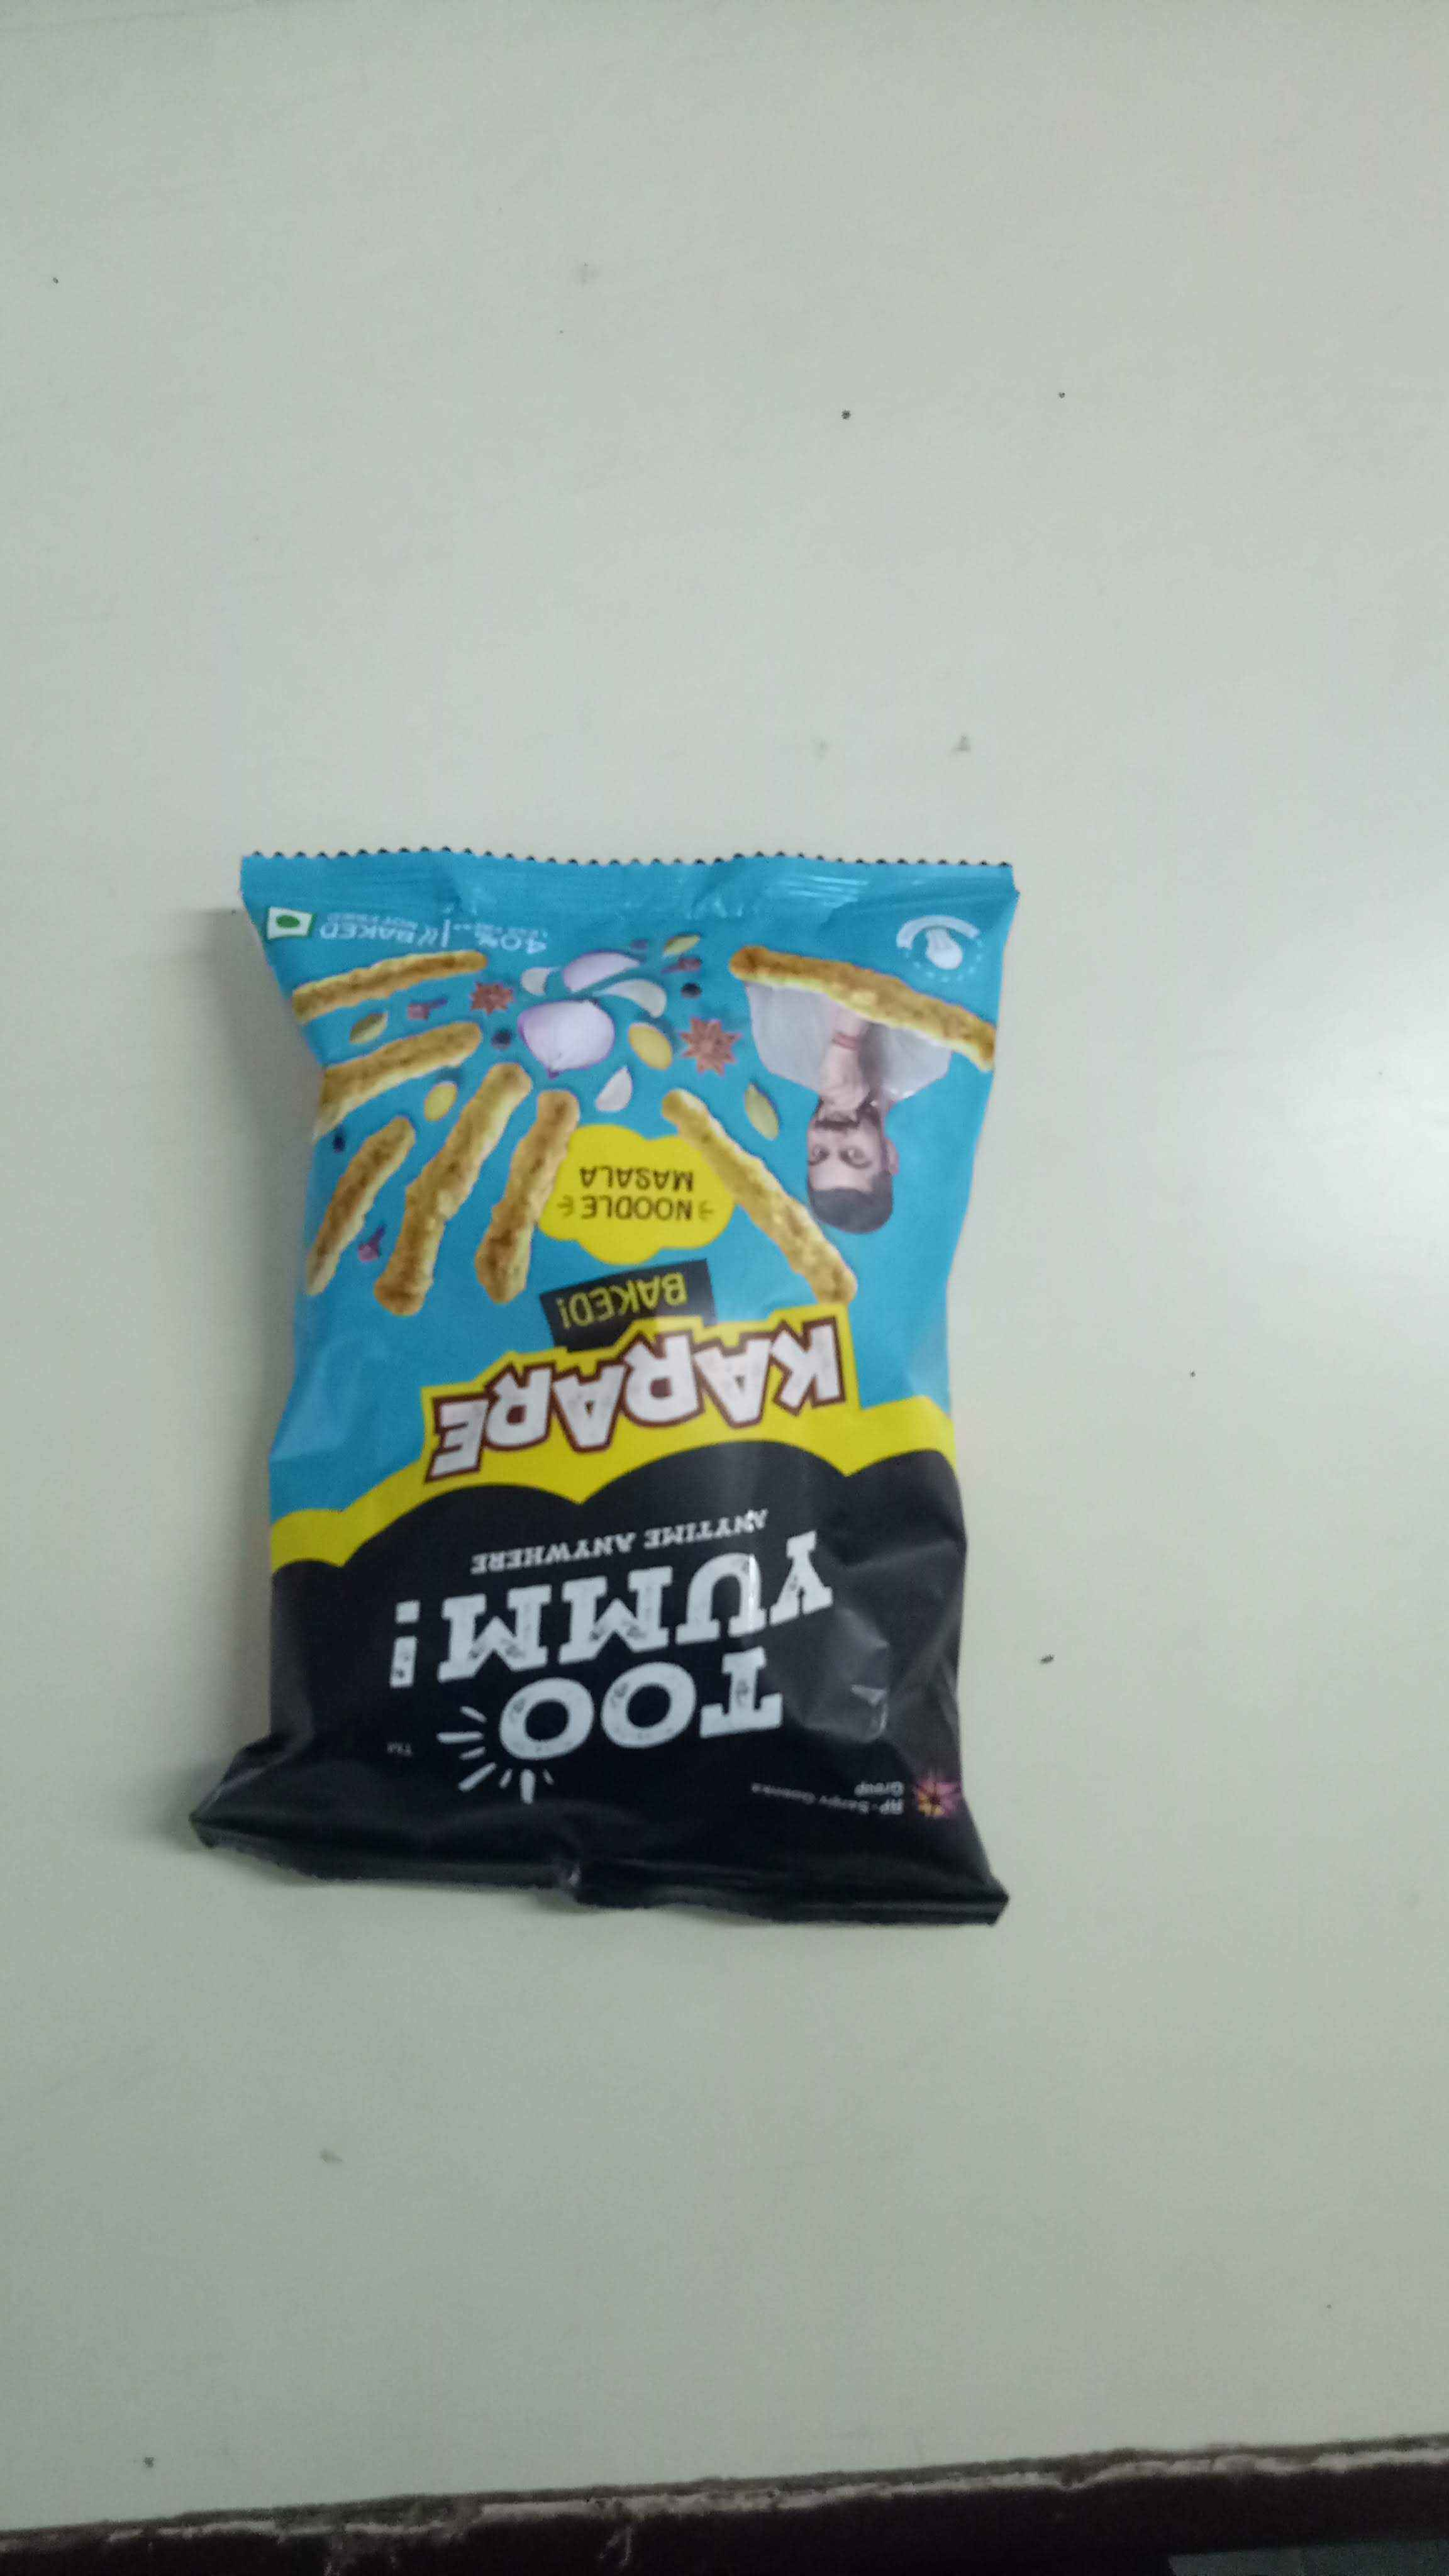tooyumm: (327, 1534, 893, 1798)
